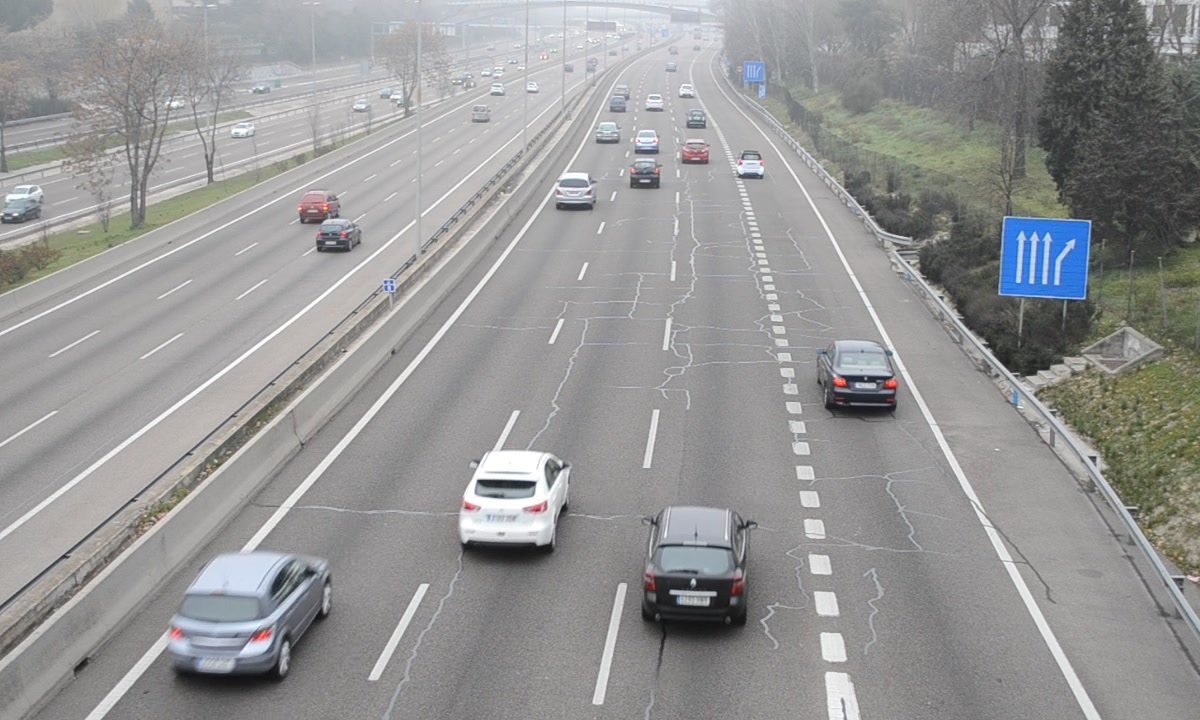car: (164, 550, 334, 682), (640, 504, 750, 633), (456, 449, 571, 548), (818, 339, 900, 417), (554, 172, 597, 211), (630, 157, 661, 190), (737, 149, 766, 180), (682, 139, 710, 165), (634, 129, 660, 155), (594, 121, 622, 145)
